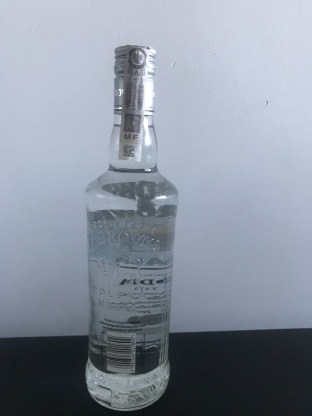nakretka: (110, 40, 158, 119)
